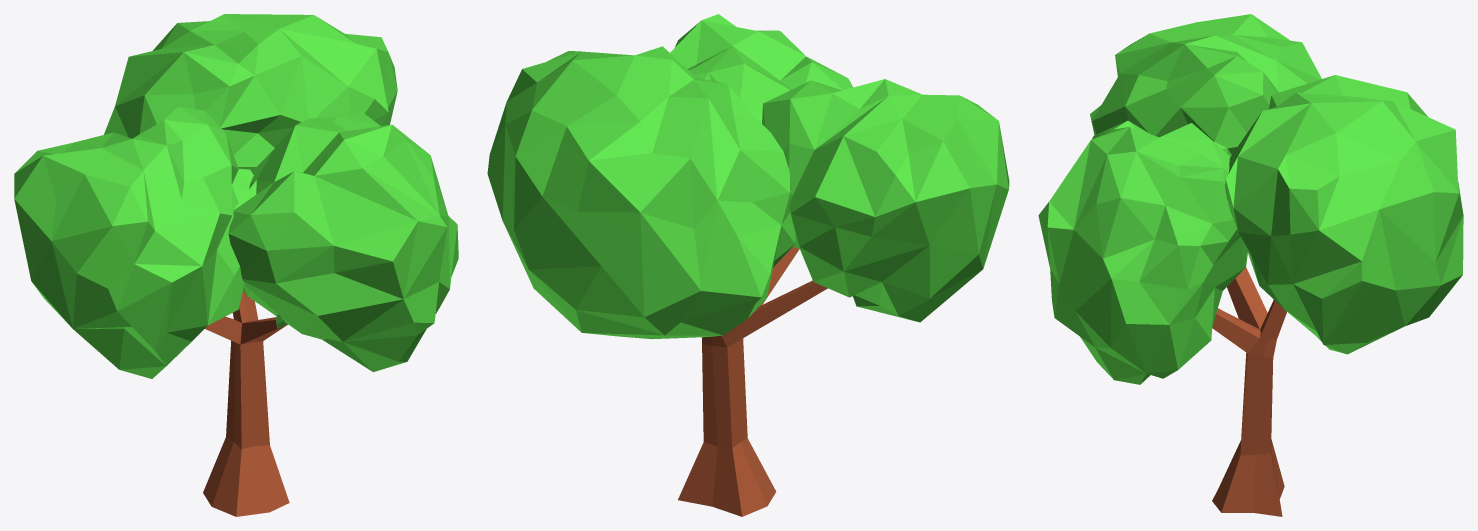
The model's file is teemap.fbx.
3 views of the same model, side by side, from view 1: azimuth 30°, elevation 25°; view 2: azimuth 150°, elevation 25°; view 3: azimuth 270°, elevation 25° (orthographic). The views are drawn at different scales.
Parts seen in each view (by area): view 1: Tree_average_lush; view 2: Tree_average_lush; view 3: Tree_average_lush.
Boxes of the visible parts, x1,y1,x2,y2 form: Tree_average_lush: (14,14,458,516); Tree_average_lush: (487,14,1009,516); Tree_average_lush: (1038,14,1463,516).
Bounding box in the file's own units: 1272 × 1271 × 1148.
